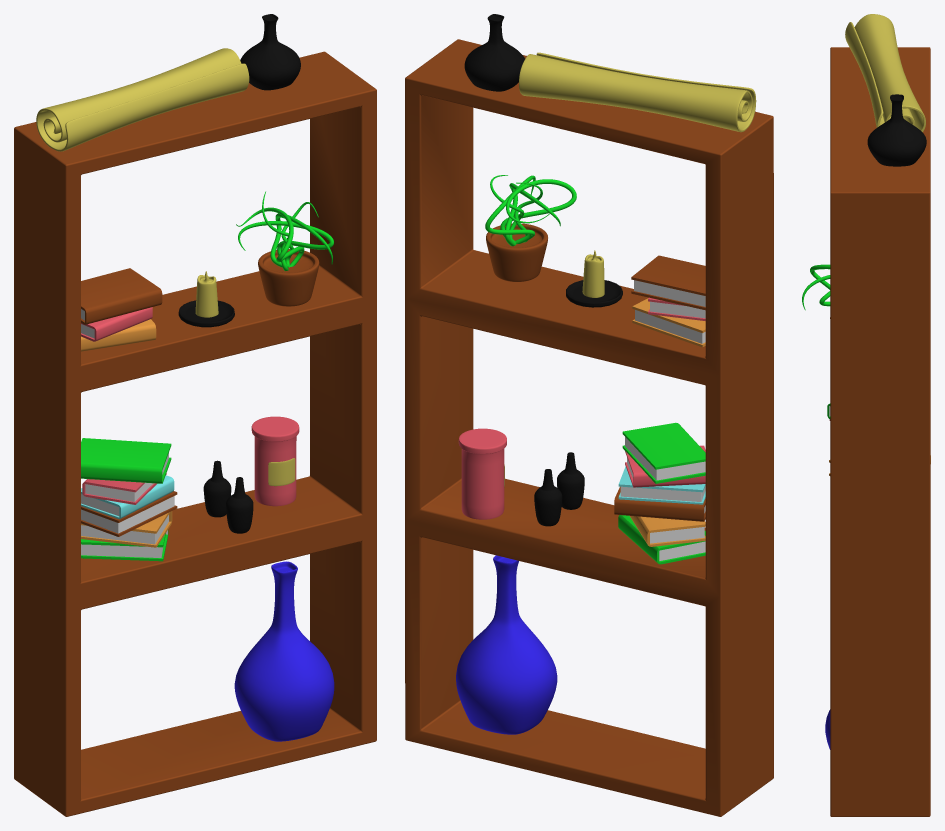
File: libreria.fbx
The picture shows the model from 3 angles, left to right: view 1: azimuth 30°, elevation 25°; view 2: azimuth 150°, elevation 25°; view 3: azimuth 270°, elevation 25°; orthographic projection. The views are drawn at different scales.
Parts seen in each view (by area): view 1: libreria, pozione blu grande, pergamena, pianta.001, contenitore rosso grande, libro verde.002, libro marrone.002, ampolla nera, candela.001, libro marrone.001, libro verde.001, libro giallo.001 (+6 smaller); view 2: libreria, pozione blu grande, pergamena, pianta.001, contenitore rosso grande, libro verde.002, libro marrone.002, ampolla nera, candela.001, libro giallo.001, libro celeste.001, libro giallo.002 (+6 smaller); view 3: libreria, pergamena, ampolla nera, pianta.001.
Part boxes in pixels (box(x1,y1,x2,y2)): libreria: box(14, 51, 376, 816); pozione blu grande: box(234, 561, 334, 741); pergamena: box(36, 48, 249, 151); pianta.001: box(236, 191, 333, 306); contenitore rosso grande: box(251, 416, 299, 506); libro verde.002: box(81, 438, 171, 483); libro marrone.002: box(81, 268, 162, 324); ampolla nera: box(240, 14, 300, 90); candela.001: box(178, 271, 234, 327); libro marrone.001: box(81, 491, 177, 536); libro verde.001: box(81, 530, 168, 561); libro giallo.001: box(81, 511, 172, 547); libreria: box(405, 39, 773, 816); pozione blu grande: box(456, 555, 557, 734); pergamena: box(519, 52, 756, 132); pianta.001: box(485, 175, 576, 281); contenitore rosso grande: box(458, 428, 506, 519); libro verde.002: box(622, 422, 705, 483); libro marrone.002: box(631, 255, 705, 310); ampolla nera: box(464, 14, 524, 91); candela.001: box(566, 250, 622, 307); libro giallo.001: box(630, 516, 705, 546); libro celeste.001: box(618, 466, 705, 504); libro giallo.002: box(632, 298, 705, 347); libreria: box(830, 47, 930, 816); pergamena: box(845, 14, 925, 132); ampolla nera: box(867, 94, 926, 166); pianta.001: box(802, 264, 830, 318).
Size of the model in its own units: 200 by 439 by 74.65.
